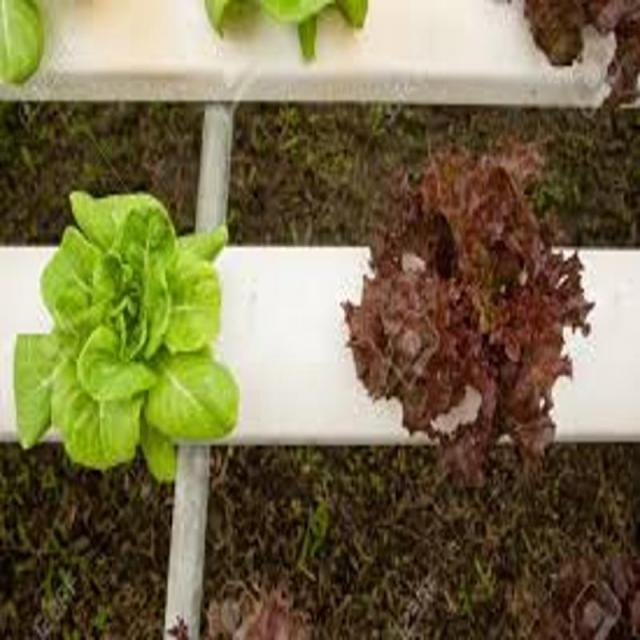Lettuce: (338, 140, 597, 485), (15, 178, 240, 480)
